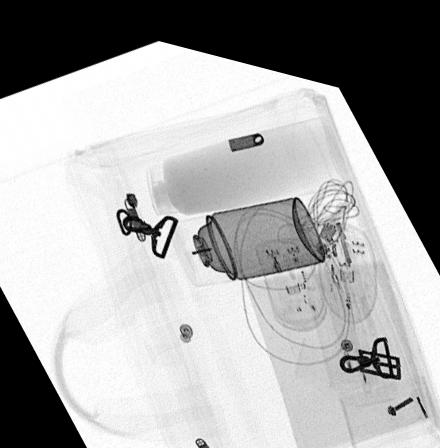Sprayer: (166, 177, 326, 278)
